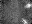person: (23, 17, 28, 23), (27, 5, 31, 8)
